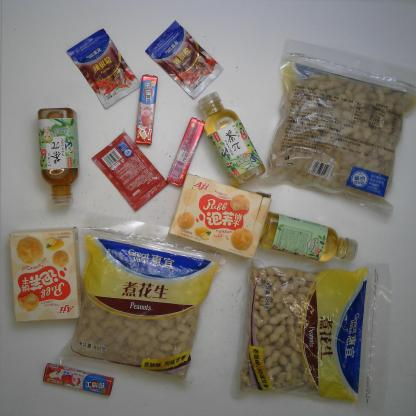Candy: (164, 115, 205, 189), (41, 363, 117, 396), (132, 73, 160, 146)
Dessert: (166, 171, 272, 260), (6, 225, 84, 323)
Dried Food: (54, 210, 226, 386), (257, 36, 416, 214), (227, 257, 394, 412)
Drink: (198, 90, 267, 189), (258, 211, 360, 265), (36, 107, 80, 208)
Seasoner: (144, 17, 224, 100), (90, 129, 168, 212), (66, 27, 142, 110)
